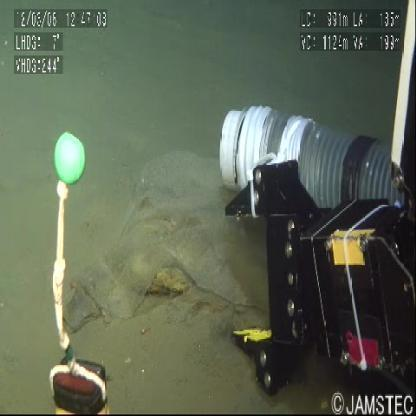Rác: (64, 153, 268, 335)
